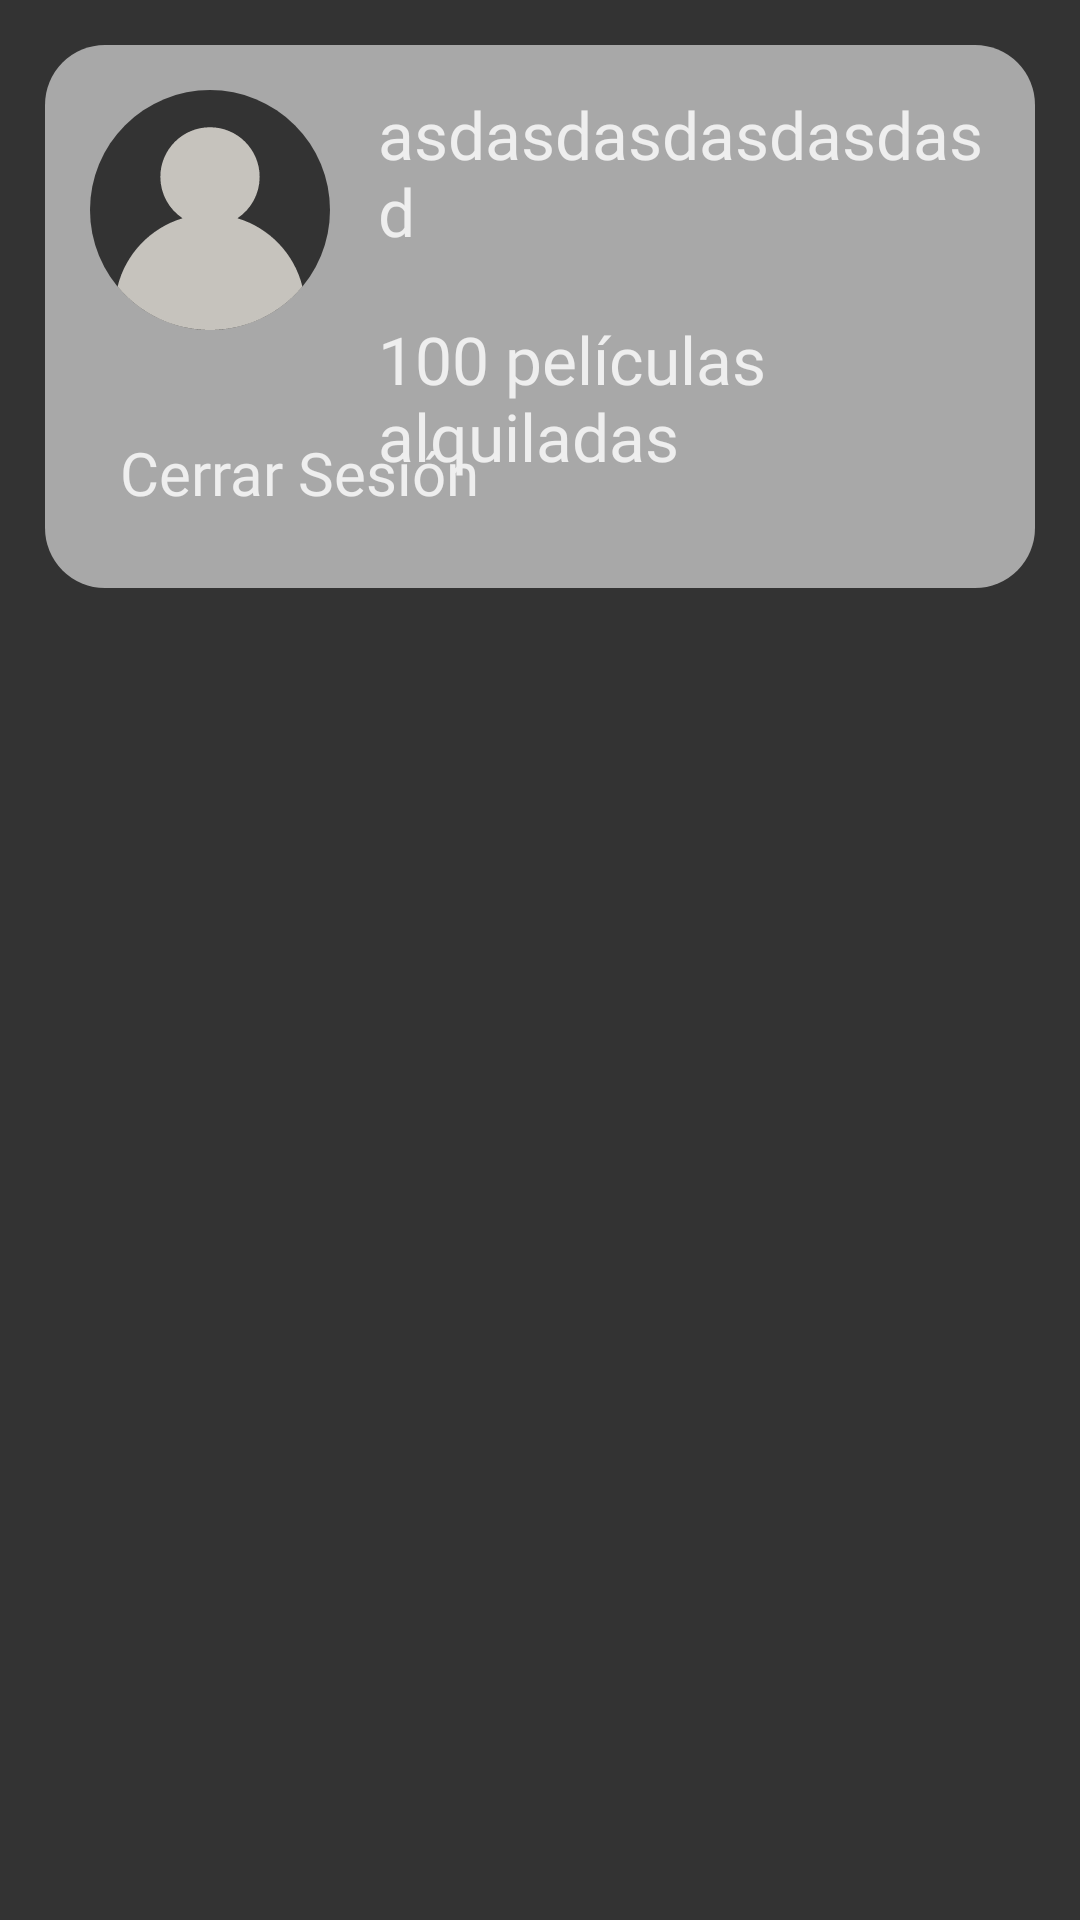

Named icons in this screenshot (1080px×1920px) and their bounding boxes, bbox=[x1, y1, x2, y2]:
user info: bbox=[90, 90, 330, 330]
